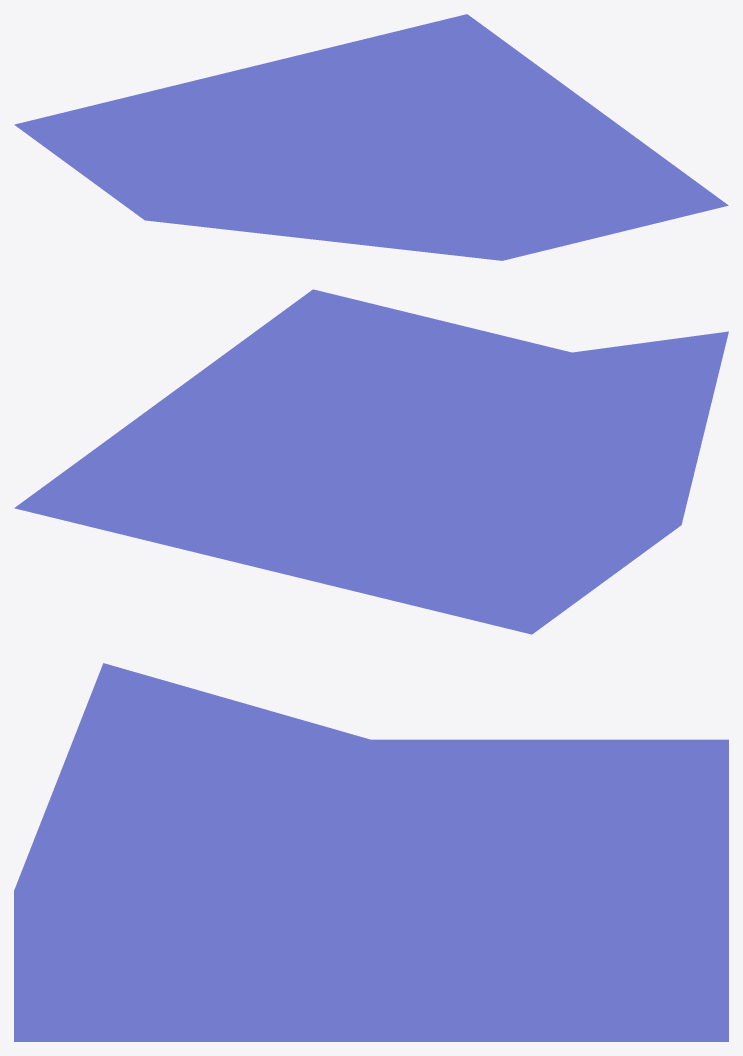
The model's file is Fold1.fbx.
3 views of the same model, one above another, from view 1: azimuth 30°, elevation 25°; view 2: azimuth 150°, elevation 25°; view 3: azimuth 270°, elevation 25° (orthographic). The views are drawn at different scales.
Visible parts, largest first — view 1: Plane; view 2: Plane; view 3: Plane.
Part boxes in pixels (x1,y1,x2,y2): Plane: (14, 14, 728, 260); Plane: (14, 289, 728, 634); Plane: (14, 663, 728, 1041).
Size of the model in its own units: 500 by 88.39 by 500.
